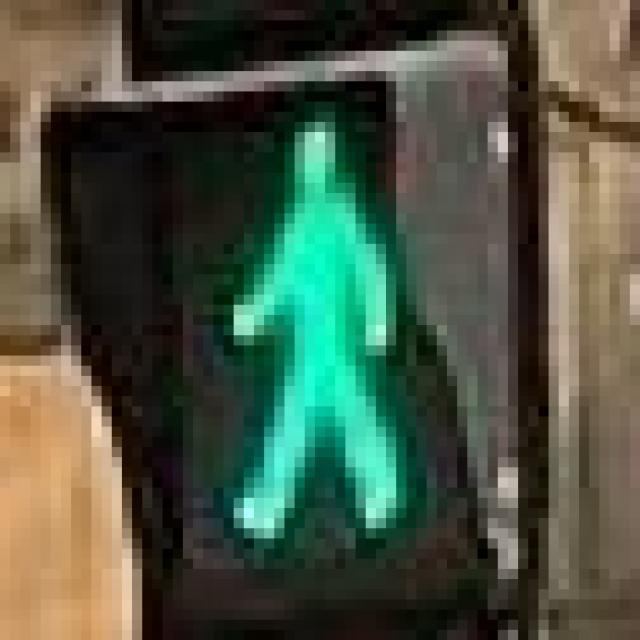geen-crossing: (183, 91, 427, 518)
